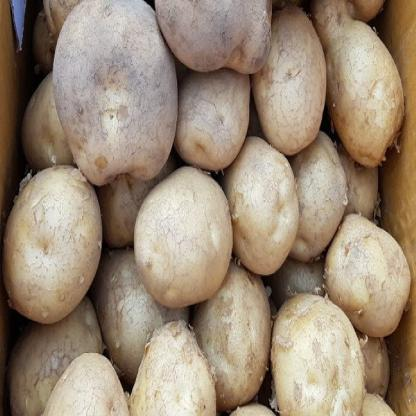potato: (50, 0, 200, 185), (0, 148, 122, 332), (286, 0, 415, 169), (127, 166, 242, 328), (269, 278, 395, 415), (307, 188, 411, 338), (194, 262, 286, 408), (255, 7, 338, 162), (138, 302, 238, 415), (127, 0, 270, 79), (218, 134, 299, 270), (274, 122, 348, 261), (171, 70, 260, 172), (57, 316, 134, 415)
